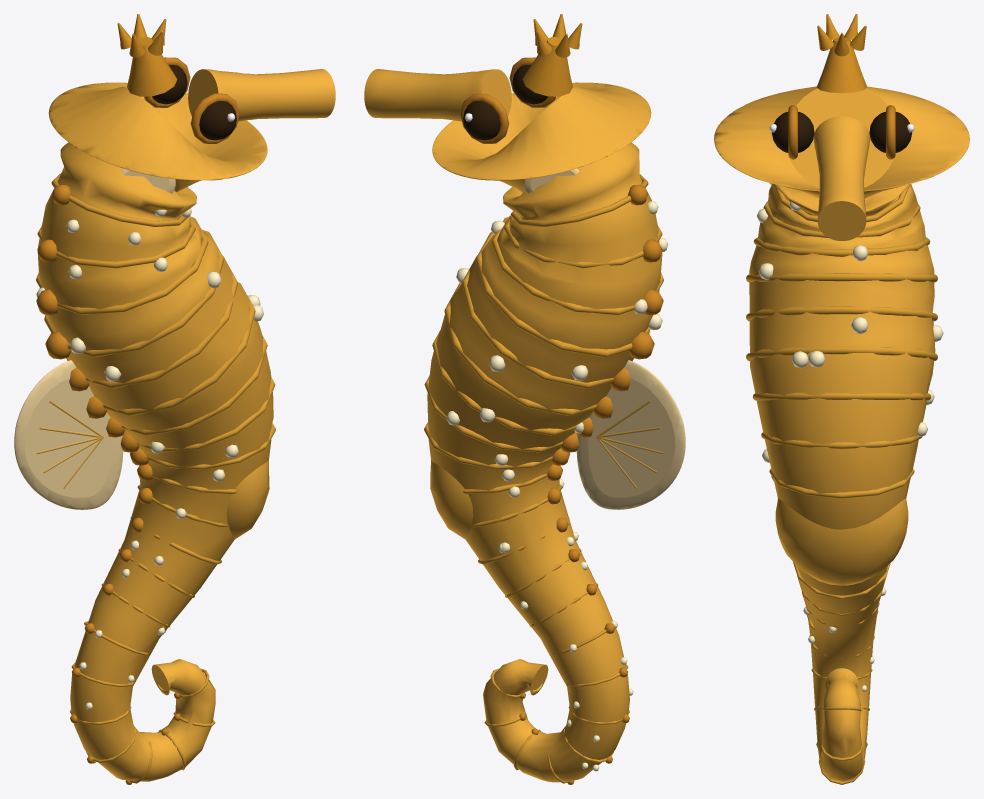
Rendered from seahorse.glb.
3 renders of one model, left to right at view 1: azimuth 30°, elevation 25°; view 2: azimuth 150°, elevation 25°; view 3: azimuth 270°, elevation 25°, orthographic.
Visible parts, largest first — view 1: Body, Rings, Dorsal, Snout, Knobs, Crown, Specks, Eyes, EyeRims, DorsalRays; view 2: Body, Rings, Dorsal, Snout, Knobs, Crown, Specks, Eyes, EyeRims, DorsalRays; view 3: Body, Rings, Snout, Crown, Eyes, Specks, EyeRims.
Boxes of the visible parts, box(x1,y1,x2,y2) form: Body: box(37, 82, 273, 781); Rings: box(36, 173, 275, 783); Dorsal: box(14, 360, 123, 509); Snout: box(188, 69, 335, 121); Knobs: box(36, 184, 180, 784); Crown: box(117, 14, 177, 96); Specks: box(36, 208, 263, 763); Eyes: box(152, 64, 236, 140); EyeRims: box(144, 57, 239, 143); DorsalRays: box(36, 400, 103, 488); Body: box(427, 82, 662, 782); Rings: box(424, 174, 663, 783); Dorsal: box(576, 360, 685, 509); Snout: box(364, 69, 511, 121); Knobs: box(519, 184, 663, 784); Crown: box(522, 14, 582, 96); Specks: box(446, 201, 668, 771); Eyes: box(463, 64, 547, 140); EyeRims: box(460, 57, 555, 143); DorsalRays: box(596, 400, 663, 488); Body: box(714, 86, 969, 781); Rings: box(746, 185, 937, 784); Snout: box(813, 116, 870, 240); Crown: box(817, 14, 866, 93); Eyes: box(772, 111, 912, 152); Specks: box(757, 183, 943, 692); EyeRims: box(788, 105, 895, 159).
Bounding box in the file's own units: 0.0366 × 0.0847 × 0.0262.
